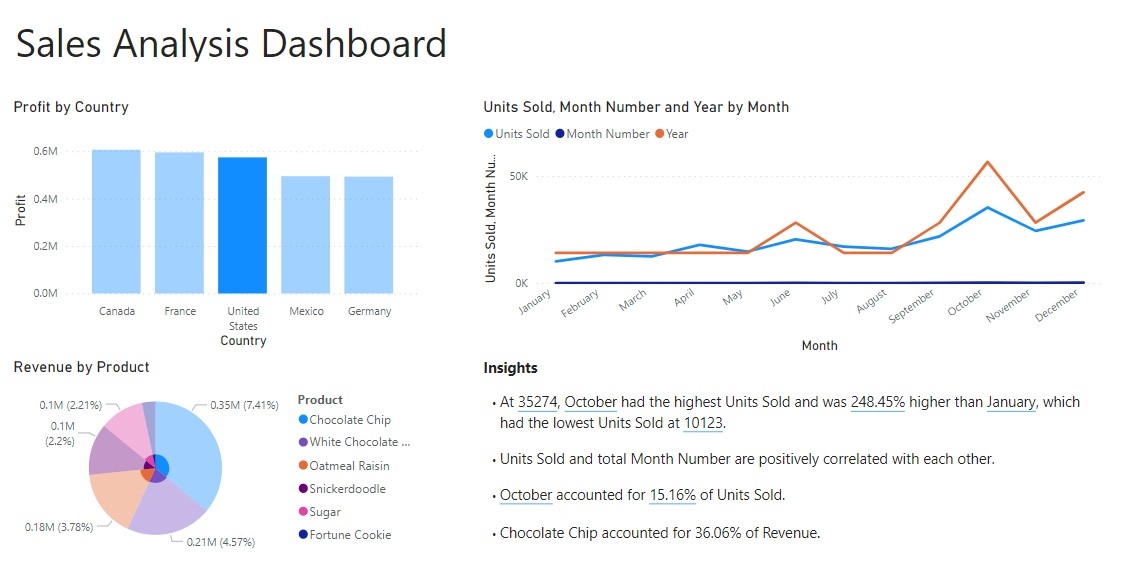

The dashboard page shown, as its layout file describes it:
{"tool":"powerbi","page":{"name":"Page 1","canvas":[1280,720],"ordinal":0},"visuals":[{"type":"textbox","box":[10,0,280,280],"z":0},{"type":"textbox","box":[0,109.9,1266.3,61.8],"z":1000},{"type":"clusteredColumnChart","fields":{"Y":["Sum(financials.Profit)"],"Category":["financials.Country"]},"box":[9.6,206,457.3,280.2],"z":2000},{"type":"lineChart","fields":{"Category":["financials.Date.Variation.Date Hierarchy.Month"],"Y":["Sum(financials.Units Sold)","Sum(financials.Month Number)","Sum(financials.Year)"]},"box":[526,206,690.8,285.7],"z":3000},{"type":"pieChart","fields":{"Category":["financials.Product"],"Y":["Sum(financials.Revenue)"]},"box":[9.6,491.7,457.3,223.9],"z":4000},{"type":"textbox","box":[526,523.3,690.8,196.4],"z":5000},{"type":"textbox","box":[526,486.2,740.3,37.1],"z":6000}]}

Visuals, with their boxes on the page's 1280x720 design canvas (x1, y1, x2, y2). These are canvas units, not pixel positions in the 1128x562 screenshot, which may show the page scaled, cropped or inside an application window:
textbox: locate(10, 0, 290, 280)
textbox: locate(0, 110, 1266, 172)
clusteredColumnChart - Sum(financials.Profit) x financials.Country: locate(10, 206, 467, 486)
lineChart - financials.Date.Variation.Date Hierarchy.Month x Sum(financials.Units Sold): locate(526, 206, 1217, 492)
pieChart - financials.Product x Sum(financials.Revenue): locate(10, 492, 467, 716)
textbox: locate(526, 523, 1217, 720)
textbox: locate(526, 486, 1266, 523)
